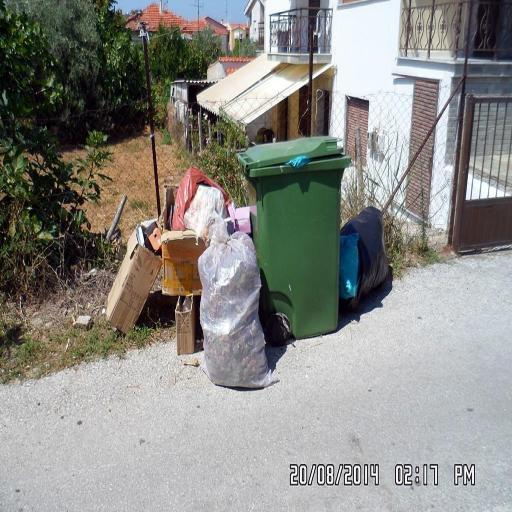trash-can: (238, 118, 348, 348)
